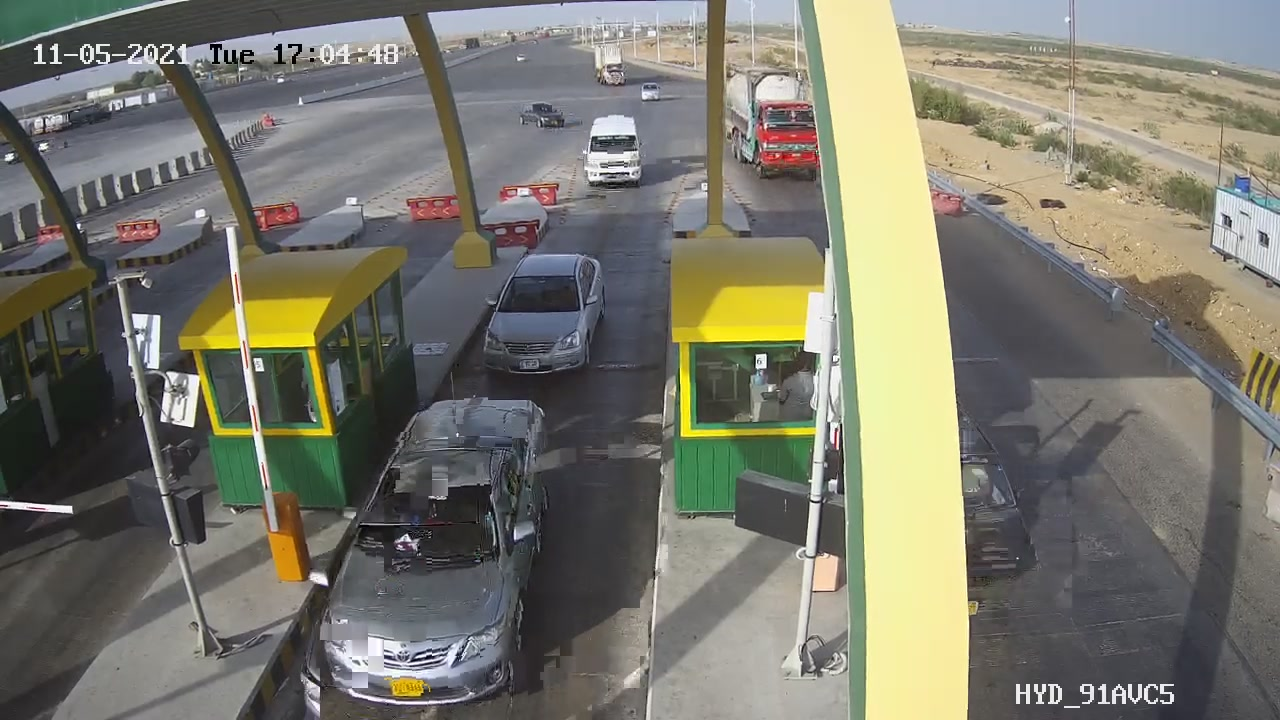F1: (469, 230, 618, 392)
